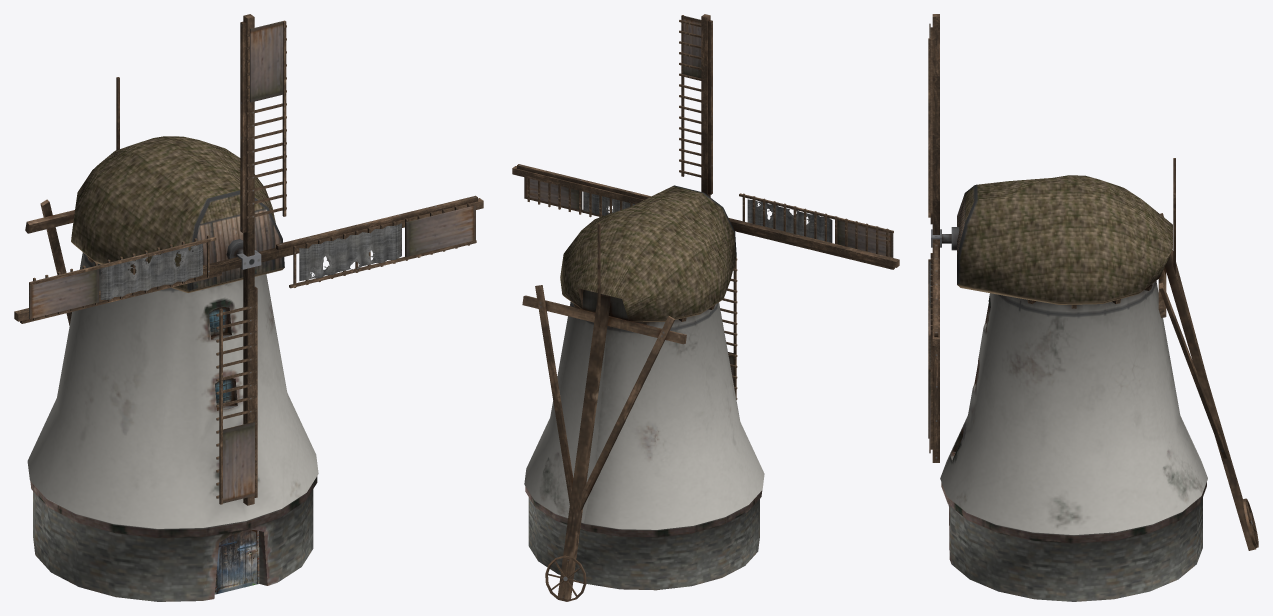
File: obj_mill.glb
3 views of the same model, side by side, from view 1: azimuth 30°, elevation 25°; view 2: azimuth 150°, elevation 25°; view 3: azimuth 270°, elevation 25° (orthographic). The views are drawn at different scales.
Visible parts, largest first — view 1: body|Windmill, sail|Windmill; view 2: body|Windmill, sail|Windmill; view 3: body|Windmill, sail|Windmill.
Part boxes in pixels (x1,y1,x2,y2): body|Windmill: (25,77,318,601); sail|Windmill: (14,14,483,505); body|Windmill: (522,185,764,601); sail|Windmill: (512,14,899,399); body|Windmill: (940,158,1258,601); sail|Windmill: (928,14,941,462).
Bounding box in the file's own units: 15.07 × 18.02 × 10.12.
2 materials, 2 textured.
